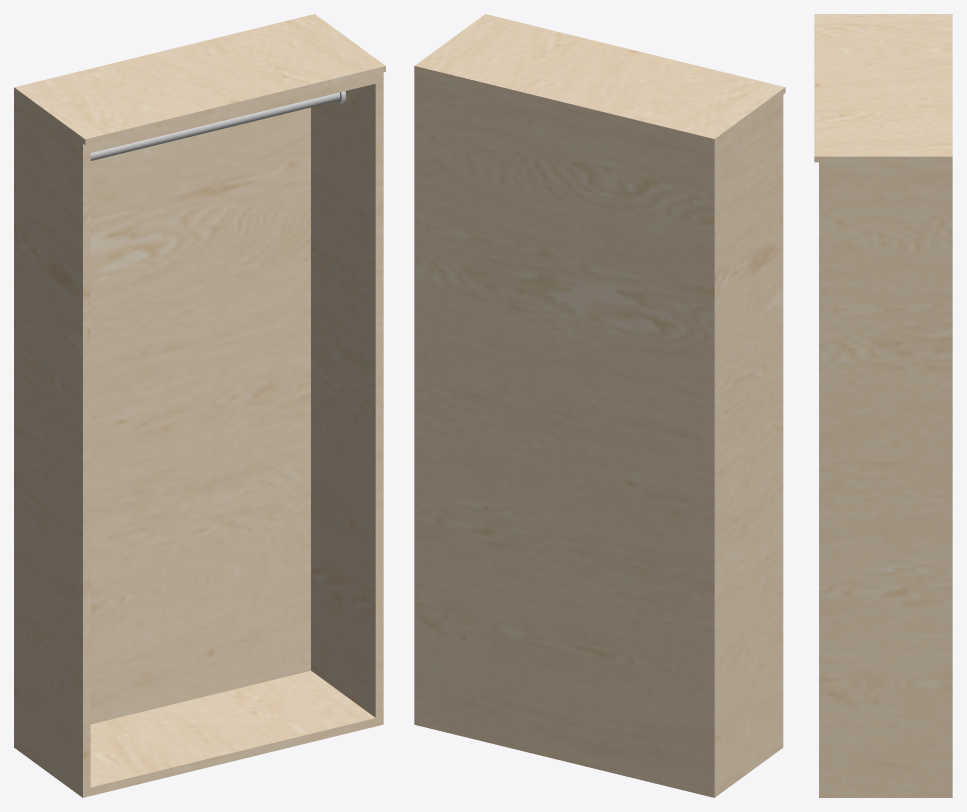
File: Closet34.fbx
The picture shows the model from 3 angles, left to right: view 1: azimuth 30°, elevation 25°; view 2: azimuth 150°, elevation 25°; view 3: azimuth 270°, elevation 25°; orthographic projection. The views are drawn at different scales.
Parts seen in each view (by area): view 1: Closet34; view 2: Closet34; view 3: Closet34.
Part boxes in pixels (x1,y1,x2,y2): Closet34: (14, 14, 385, 797); Closet34: (414, 14, 785, 797); Closet34: (814, 14, 952, 797).
Size of the model in its own units: 112 by 235 by 45.95.
